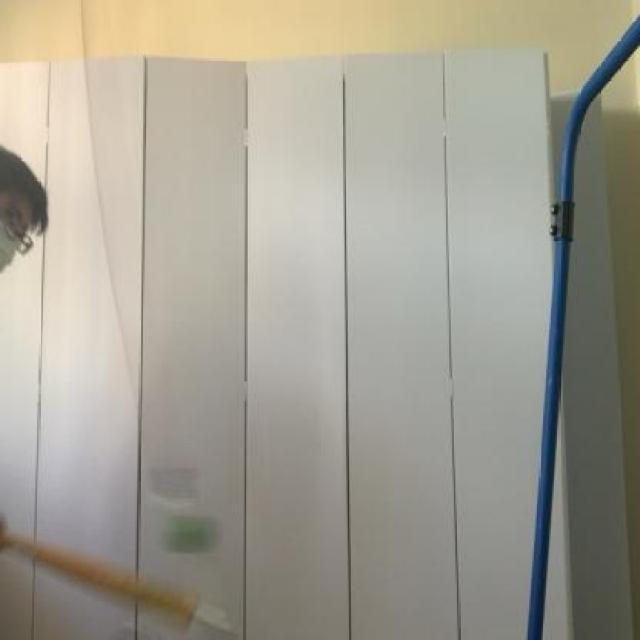baseball: (157, 488, 220, 560)
